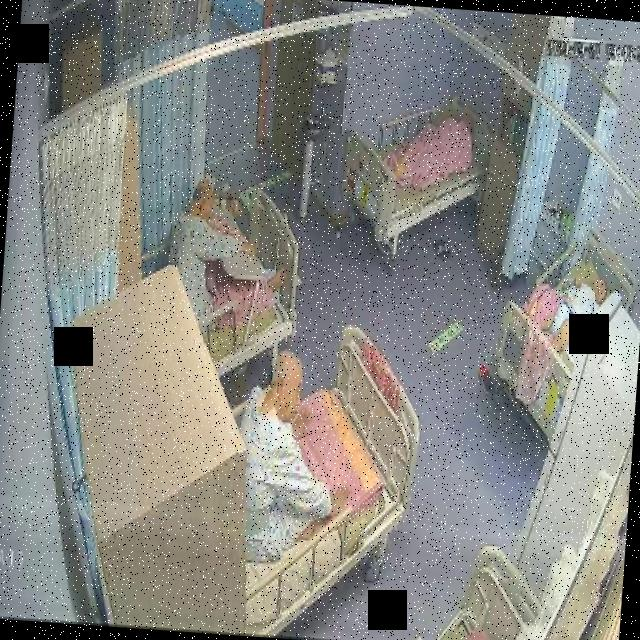bed: (210, 321, 426, 640), (485, 223, 639, 447), (158, 190, 302, 382), (341, 84, 494, 252)
lie: (552, 270, 612, 354)
patient: (232, 344, 358, 572), (162, 172, 294, 338), (551, 269, 612, 353)
sit: (232, 344, 358, 572), (162, 172, 292, 339)
